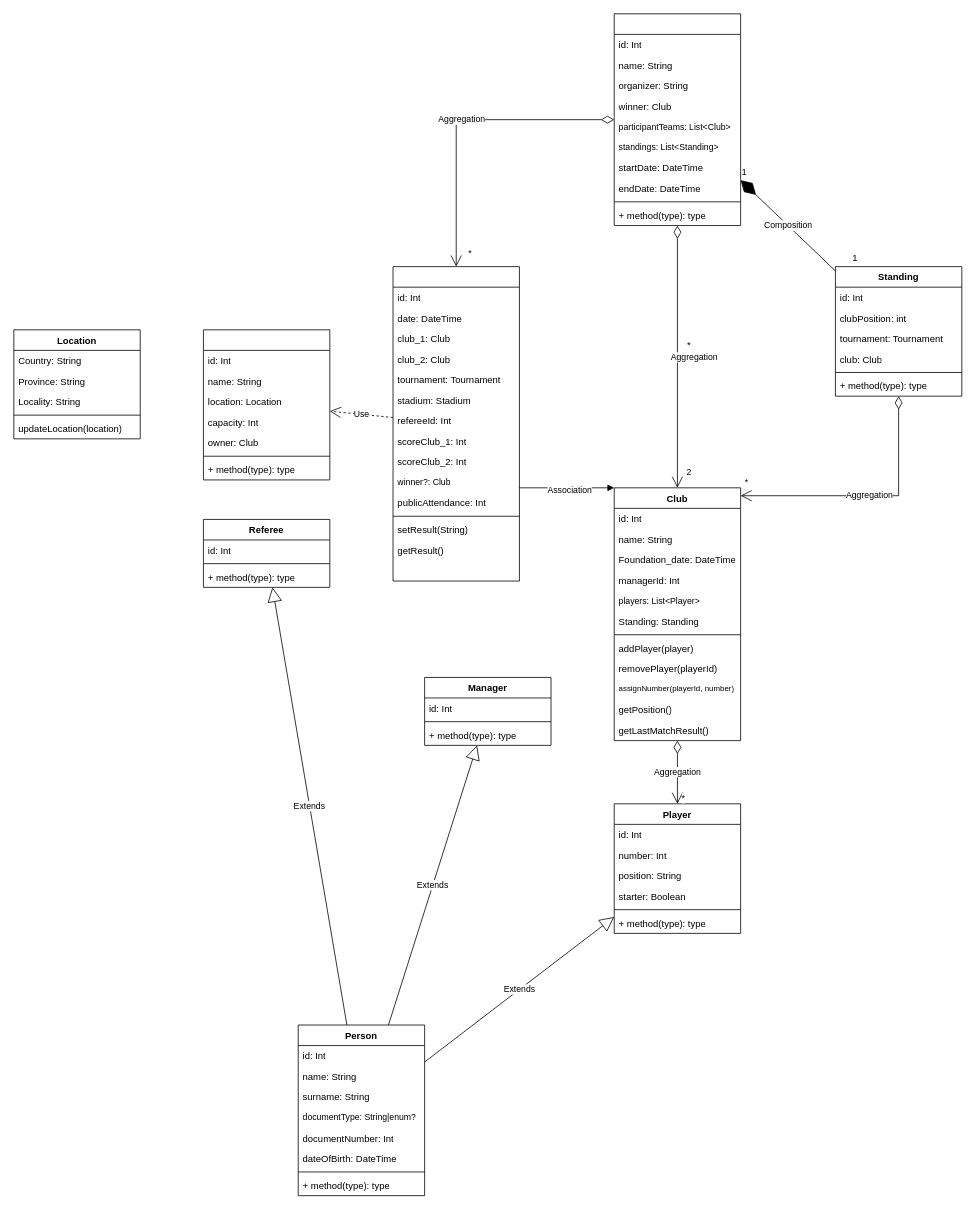
The diagram is 976 pixels wide and 1212 high, and some of its shapes have lost their labels. Here are the shapes that lost their labels. From the top down, the box of each, then its label:
(613, 13, 741, 226): Tournament
(203, 329, 330, 480): Stadium
(392, 266, 519, 581): Match
